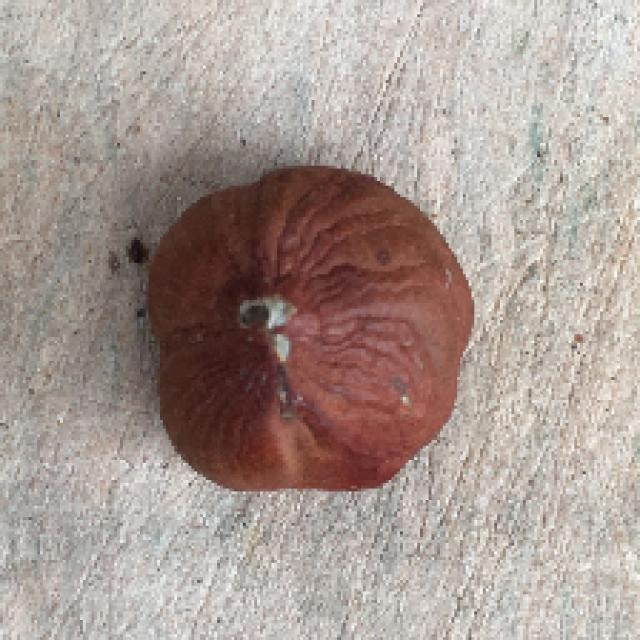hazelnut: (142, 150, 473, 501)
